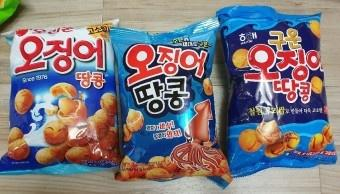snack: (215, 5, 338, 178), (110, 16, 232, 190), (0, 18, 121, 176)
